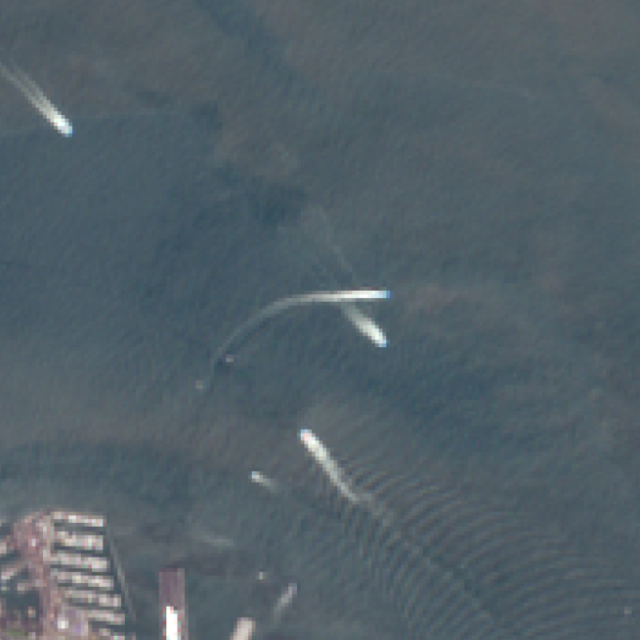wake: (239, 374, 494, 630)
